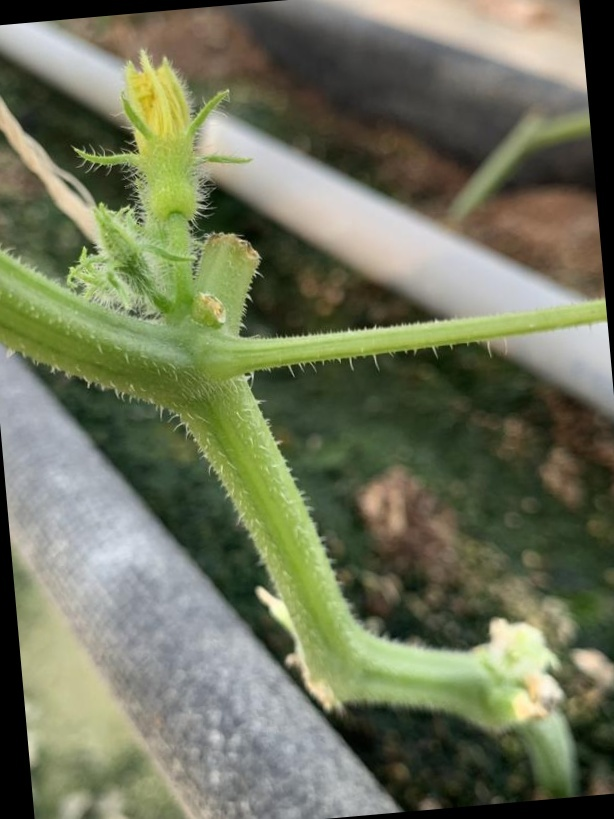bud: (99, 56, 235, 235)
